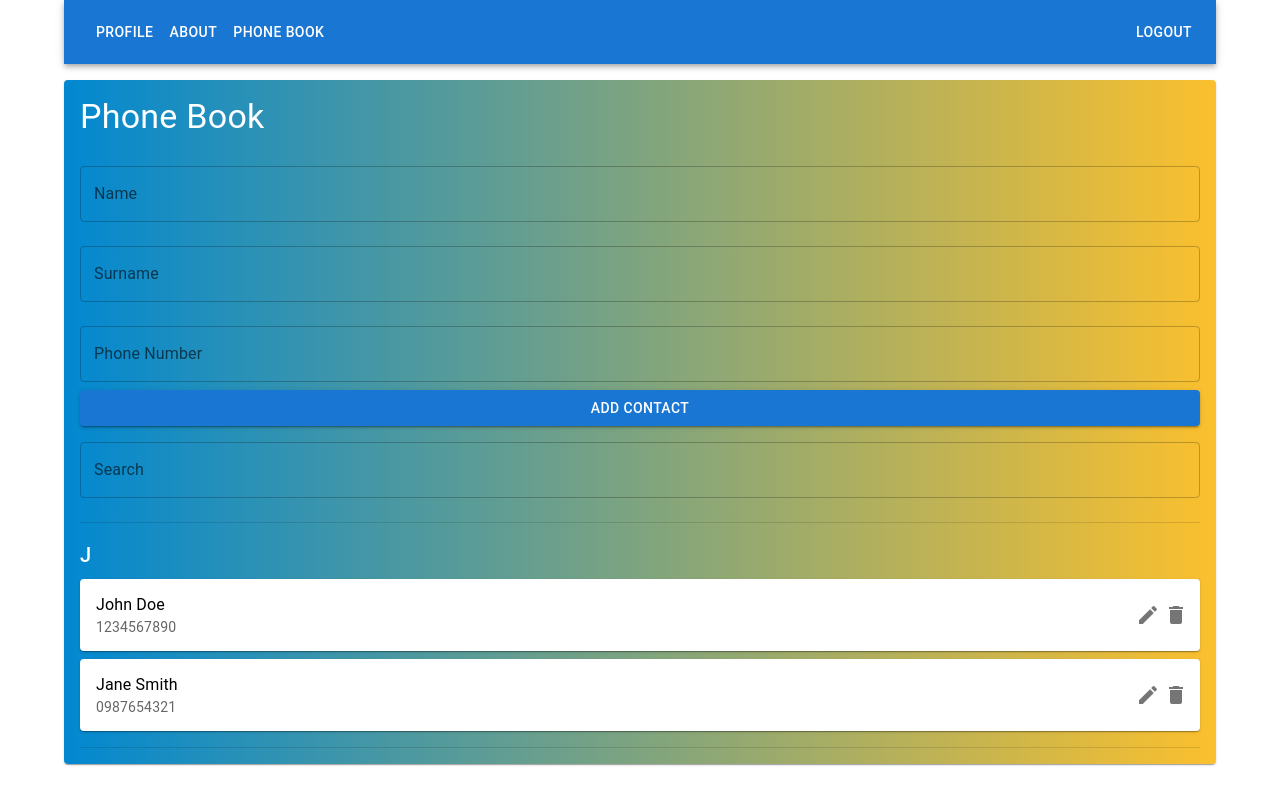
Test case: PhoneBookPage › searches for a contact
Step 1. Type "Jane" into the field with test id "search-input" → (640, 470), box [80, 442, 1200, 498]
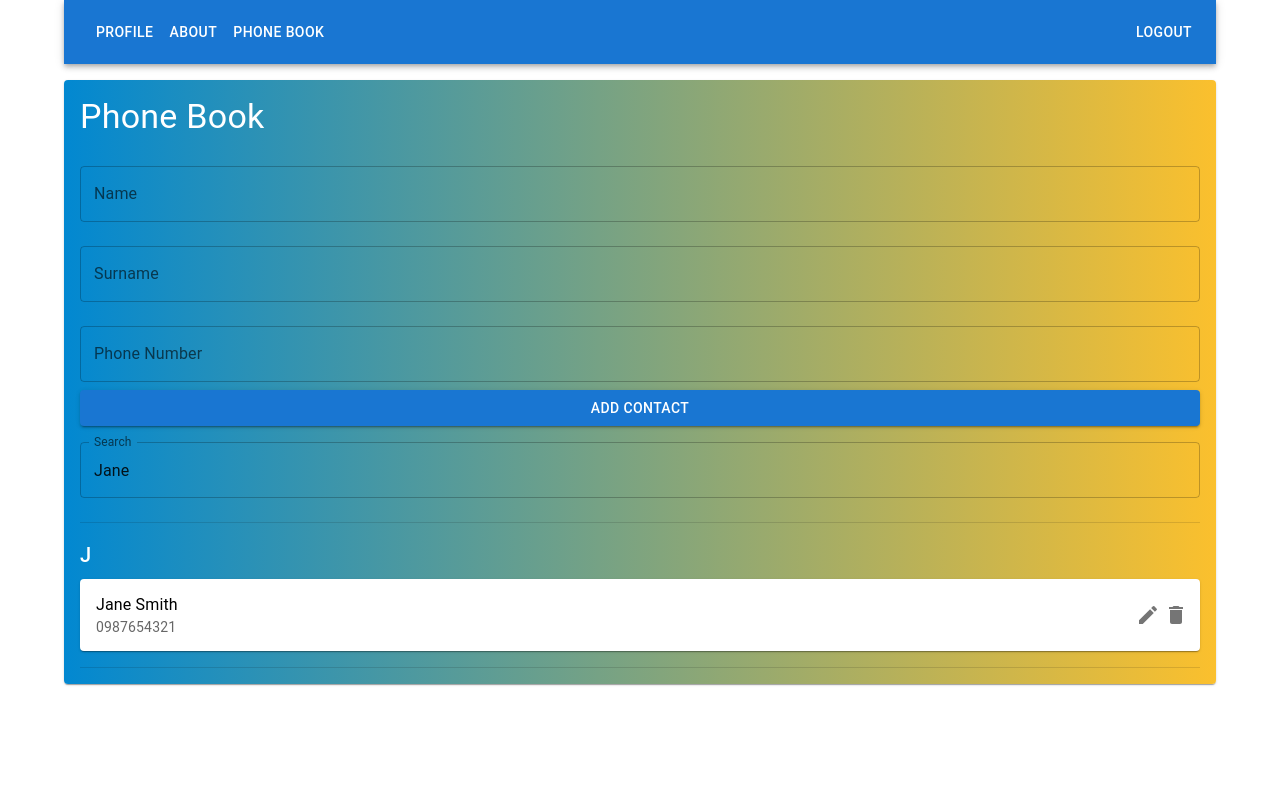
Expected: the text "Jane Smith" is shown, [96, 595, 178, 614]
Expected: the text "John Doe" is gone
